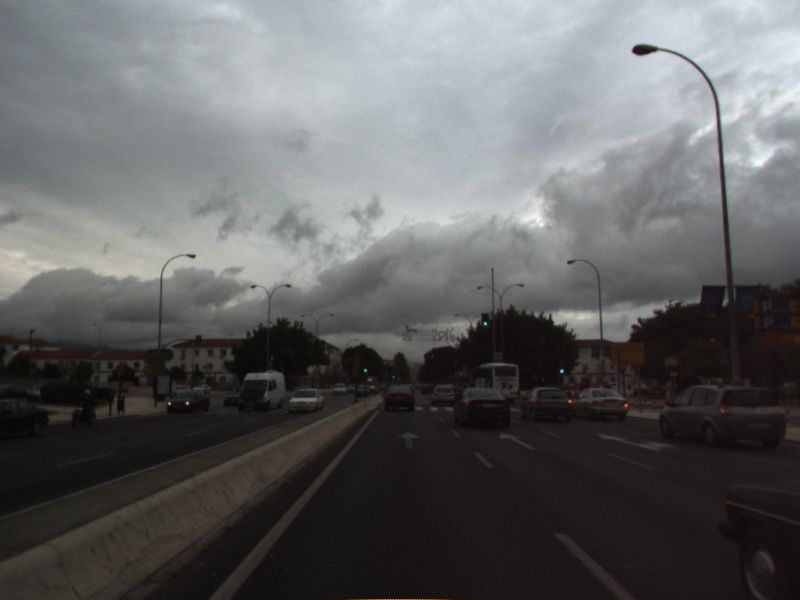STRAIGHT: (497, 430, 538, 452), (395, 429, 424, 451)
STRAIGHT_RIGHT: (594, 431, 680, 455)
